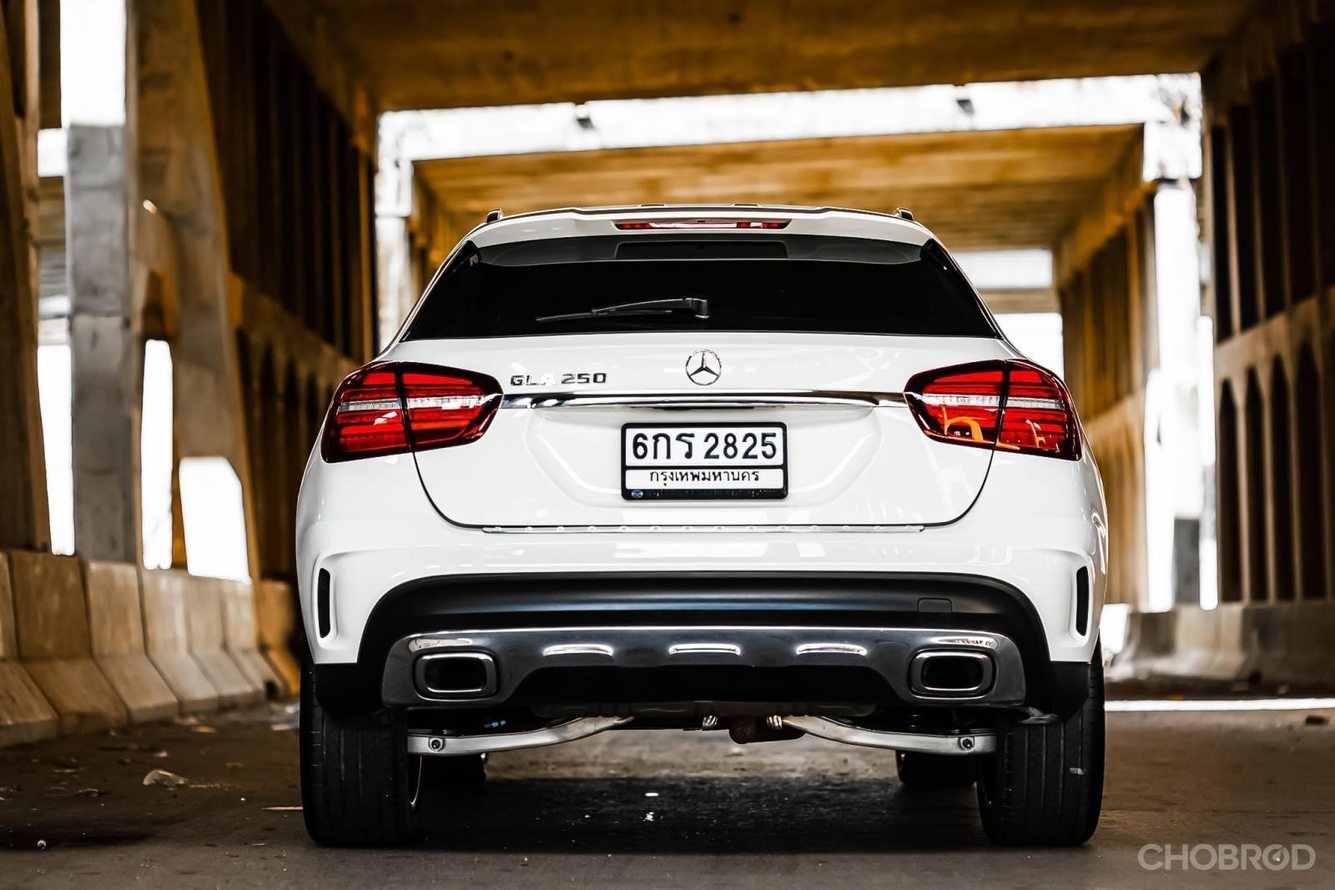license-plate: (619, 418, 789, 503)
